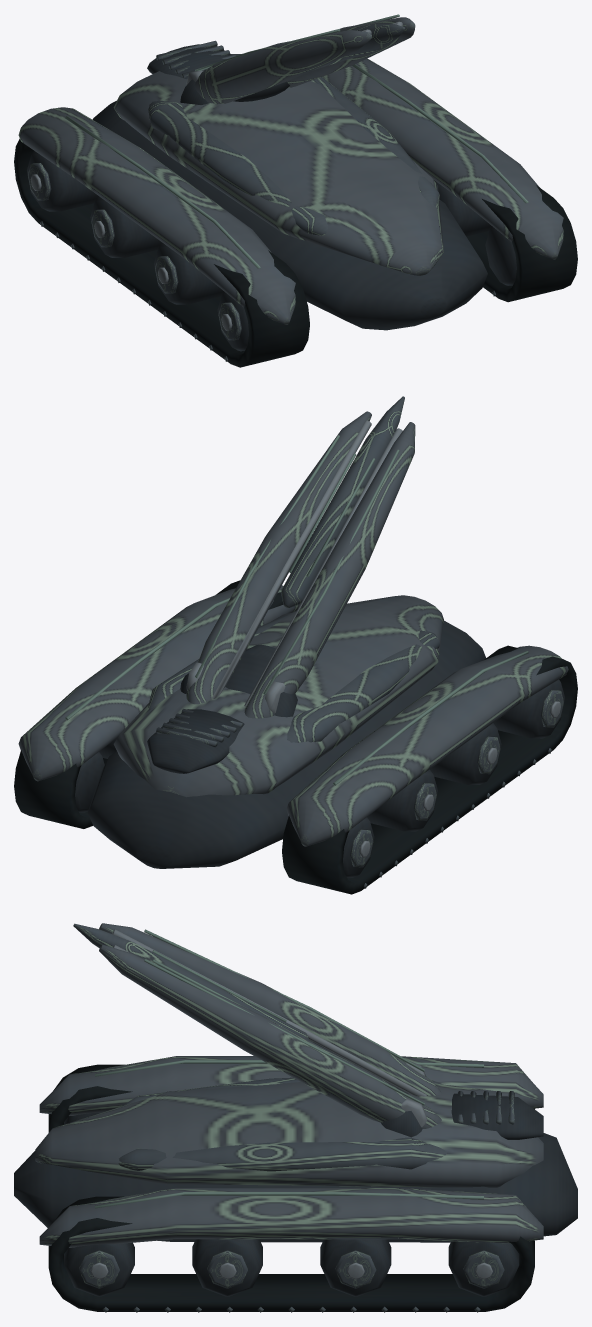
Rendered from GGA0101_source.obj.
The picture shows the model from 3 angles, top to bottom: view 1: azimuth 30°, elevation 25°; view 2: azimuth 150°, elevation 25°; view 3: azimuth 270°, elevation 25°; orthographic projection.
Visible parts, largest first — view 1: GGA0101, Turret, missile; view 2: GGA0101, Turret, missile; view 3: GGA0101, Turret, missile.
Boxes of the visible parts, bbox=[...] form: GGA0101: bbox=[14, 40, 577, 367]; Turret: bbox=[195, 14, 415, 104]; missile: bbox=[313, 23, 404, 70]; GGA0101: bbox=[14, 580, 577, 894]; Turret: bbox=[186, 411, 415, 718]; missile: bbox=[281, 396, 404, 607]; GGA0101: bbox=[14, 1056, 577, 1312]; Turret: bbox=[99, 923, 441, 1128]; missile: bbox=[73, 923, 309, 1040].
Bounding box in the file's own units: 9.26 × 7.99 × 13.2.
Materials: 1 (1 with a texture image).
